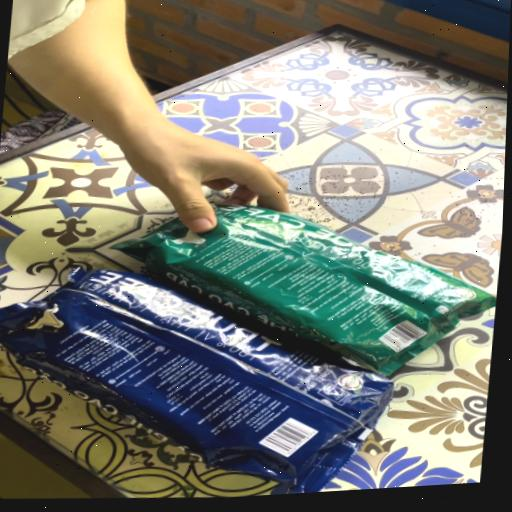cafe_hat: (0, 268, 394, 493)
cafe_xay: (113, 204, 496, 375)
